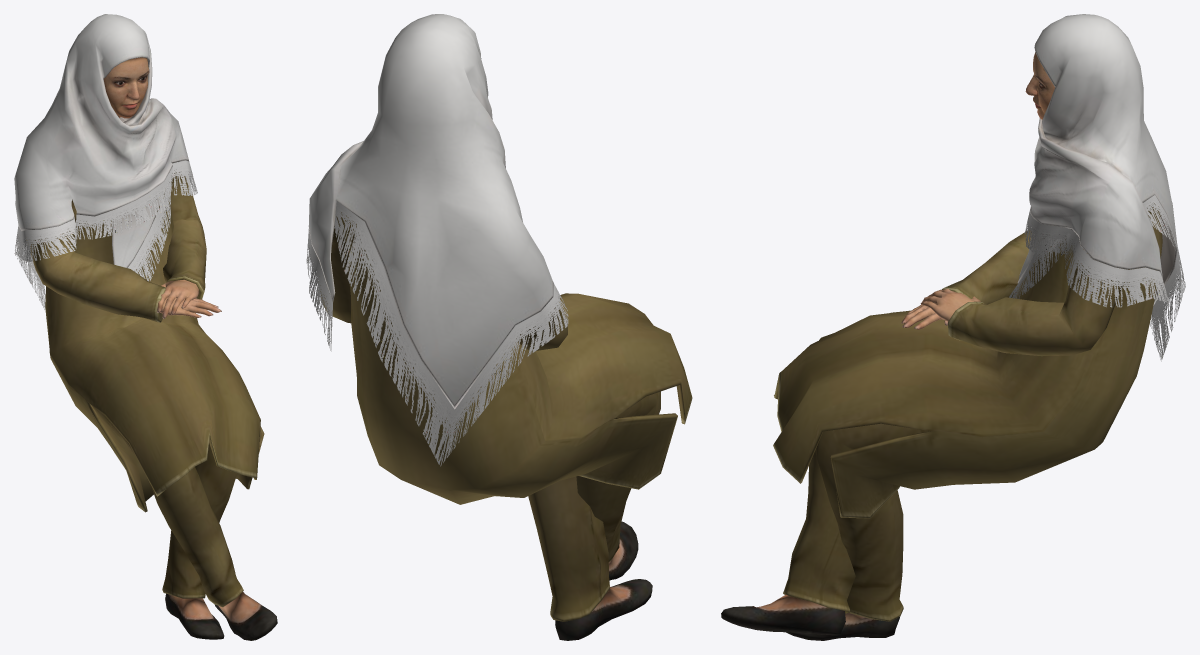
The model's file is Female_Adult_06.glb.
3 renders of one model, left to right at view 1: azimuth 30°, elevation 25°; view 2: azimuth 150°, elevation 25°; view 3: azimuth 270°, elevation 25°, orthographic. The views are drawn at different scales.
Visible parts, largest first — view 1: Female_Adult_06; view 2: Female_Adult_06; view 3: Female_Adult_06.
Part boxes in pixels (x1,y1,x2,y2): Female_Adult_06: [14, 14, 277, 640]; Female_Adult_06: [306, 14, 692, 640]; Female_Adult_06: [721, 14, 1185, 640].
Size of the model in its own units: 0.5123 by 1.42 by 0.951.
3 materials, 3 textured.
